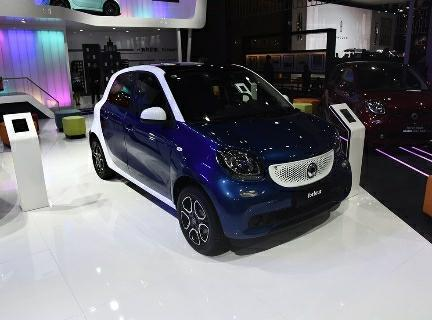car: (64, 54, 362, 262)
